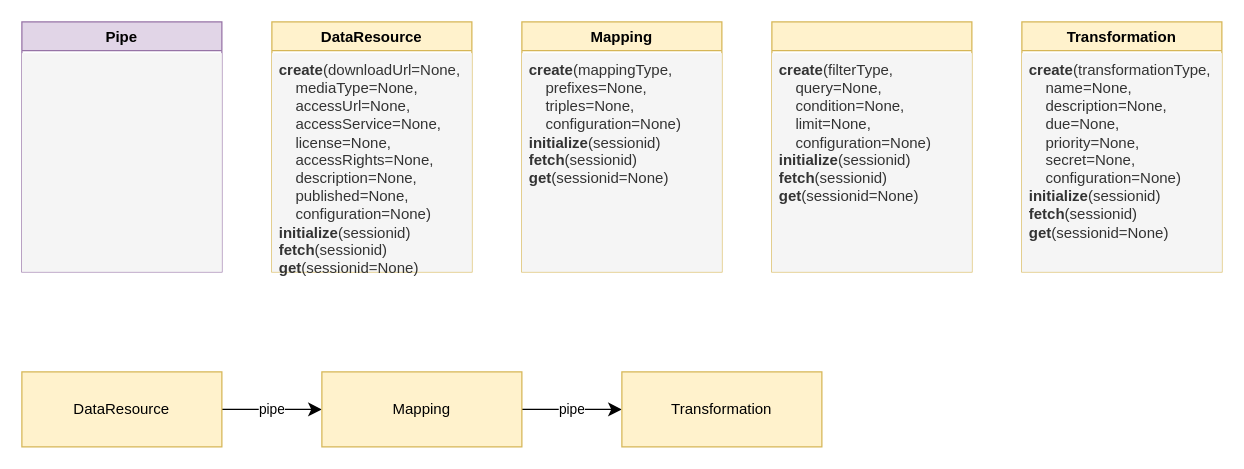
Some shapes in this 1244 by 469 pixel diagram are drawn without their labels. The shapes that lost their labels are listed below. From the top down, each one's box as (x1, y1, x2, y2) in pixels, then its label:
(21, 52, 221, 271): get (sessionid=None)
(771, 21, 972, 272): DataFilter
